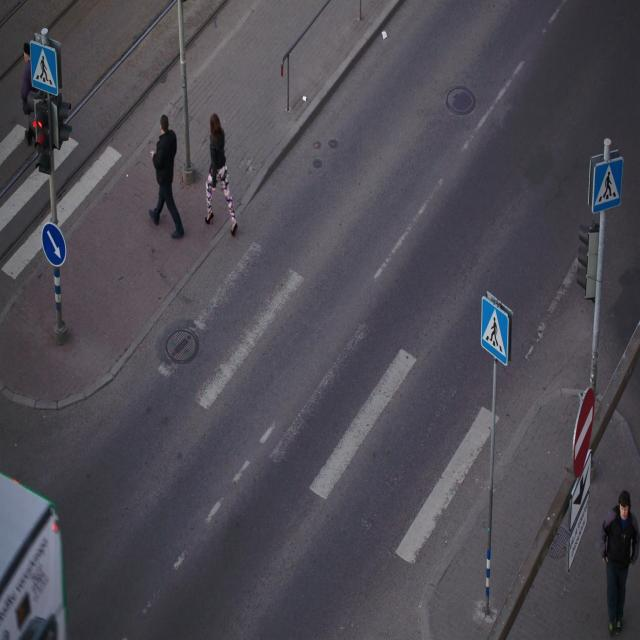pedestrian: (149, 114, 184, 238), (205, 113, 238, 234), (185, 120, 192, 175)
